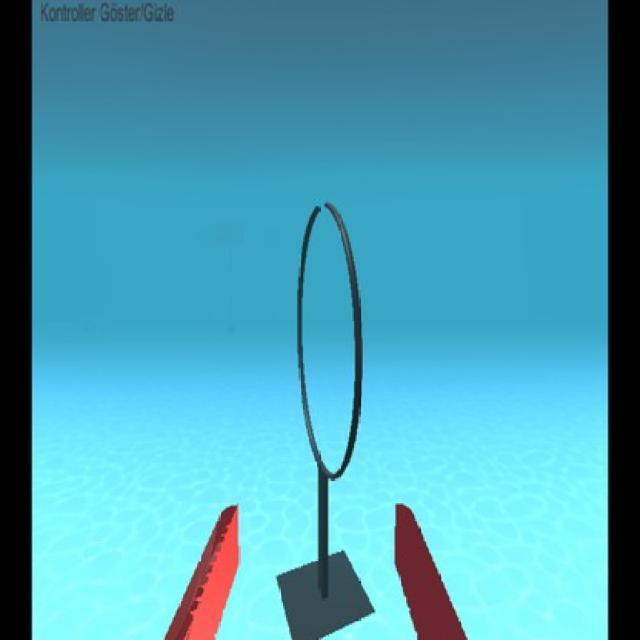Circle: (294, 196, 366, 485)
